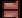legs: (2, 0, 20, 18)
